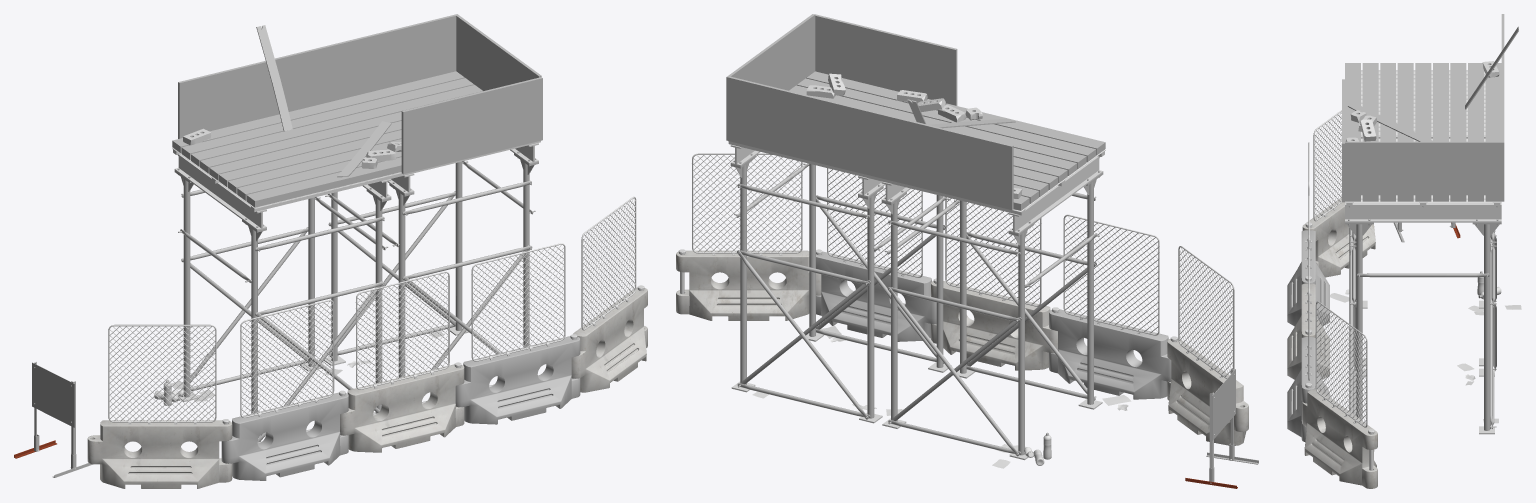
File: KB3D_CTS_BldgLG_D.fbx
The picture shows the model from 3 angles, left to right: view 1: azimuth 30°, elevation 25°; view 2: azimuth 150°, elevation 25°; view 3: azimuth 270°, elevation 25°; orthographic projection. The views are drawn at different scales.
Parts seen in each view (by area): view 1: KB3D_CTS_BldgLG_D_Scaffolding, KB3D_CTS_BldgLG_D_Barrier, KB3D_CTS_BldgLG_D_RoadSign, KB3D_CTS_BldgLG_D_Trash; view 2: KB3D_CTS_BldgLG_D_Scaffolding, KB3D_CTS_BldgLG_D_Barrier, KB3D_CTS_BldgLG_D_RoadSign, KB3D_CTS_BldgLG_D_Trash; view 3: KB3D_CTS_BldgLG_D_Scaffolding, KB3D_CTS_BldgLG_D_Barrier, KB3D_CTS_BldgLG_D_Trash.
Part boxes in pixels (left/top/right/bottom): KB3D_CTS_BldgLG_D_Scaffolding: left=172, top=14, right=542, bottom=443; KB3D_CTS_BldgLG_D_Barrier: left=87, top=196, right=647, bottom=488; KB3D_CTS_BldgLG_D_RoadSign: left=14, top=361, right=92, bottom=477; KB3D_CTS_BldgLG_D_Trash: left=154, top=330, right=444, bottom=405; KB3D_CTS_BldgLG_D_Scaffolding: left=726, top=14, right=1105, bottom=460; KB3D_CTS_BldgLG_D_Barrier: left=676, top=153, right=1248, bottom=445; KB3D_CTS_BldgLG_D_RoadSign: left=1185, top=369, right=1258, bottom=488; KB3D_CTS_BldgLG_D_Trash: left=752, top=325, right=1131, bottom=468; KB3D_CTS_BldgLG_D_Scaffolding: left=1342, top=14, right=1518, bottom=434; KB3D_CTS_BldgLG_D_Barrier: left=1287, top=110, right=1377, bottom=488; KB3D_CTS_BldgLG_D_Trash: left=1330, top=271, right=1521, bottom=423.
Size of the model in its own units: 914 by 499 by 333.
